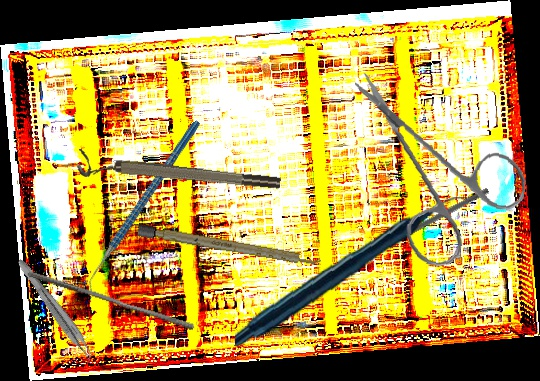Chopper: (42, 119, 245, 300), (350, 180, 490, 264)
Fixation Ring: (75, 149, 282, 201)
Handpiece: (234, 185, 468, 358)
Iris Scissors: (336, 71, 536, 275)
Pusher: (24, 269, 198, 332)
Scalpel Handle: (137, 224, 322, 268)
Tissue Forceps: (10, 257, 100, 365)
